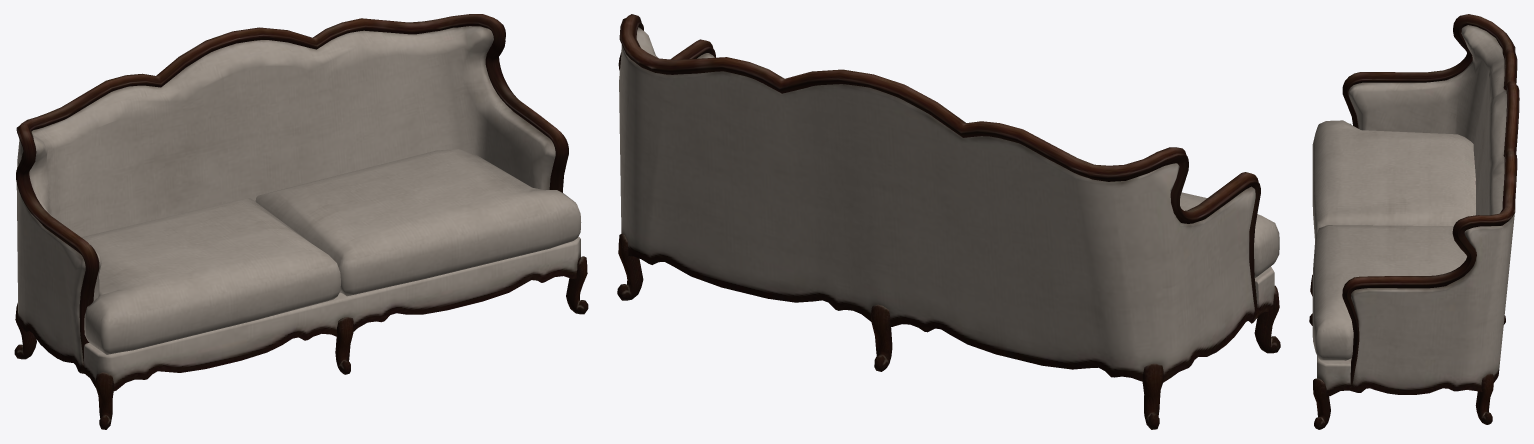
File: Sofa_01_1k.gltf
3 views of the same model, side by side, from view 1: azimuth 30°, elevation 25°; view 2: azimuth 150°, elevation 25°; view 3: azimuth 270°, elevation 25° (orthographic). The views are drawn at different scales.
Parts seen in each view (by area): view 1: Sofa_01; view 2: Sofa_01; view 3: Sofa_01.
Part boxes in pixels (x1,y1,x2,y2): Sofa_01: [14, 14, 588, 429]; Sofa_01: [617, 14, 1280, 429]; Sofa_01: [1309, 14, 1519, 429].
Size of the model in its own units: 1.57 by 0.7965 by 0.658.
1 material, 1 textured.
